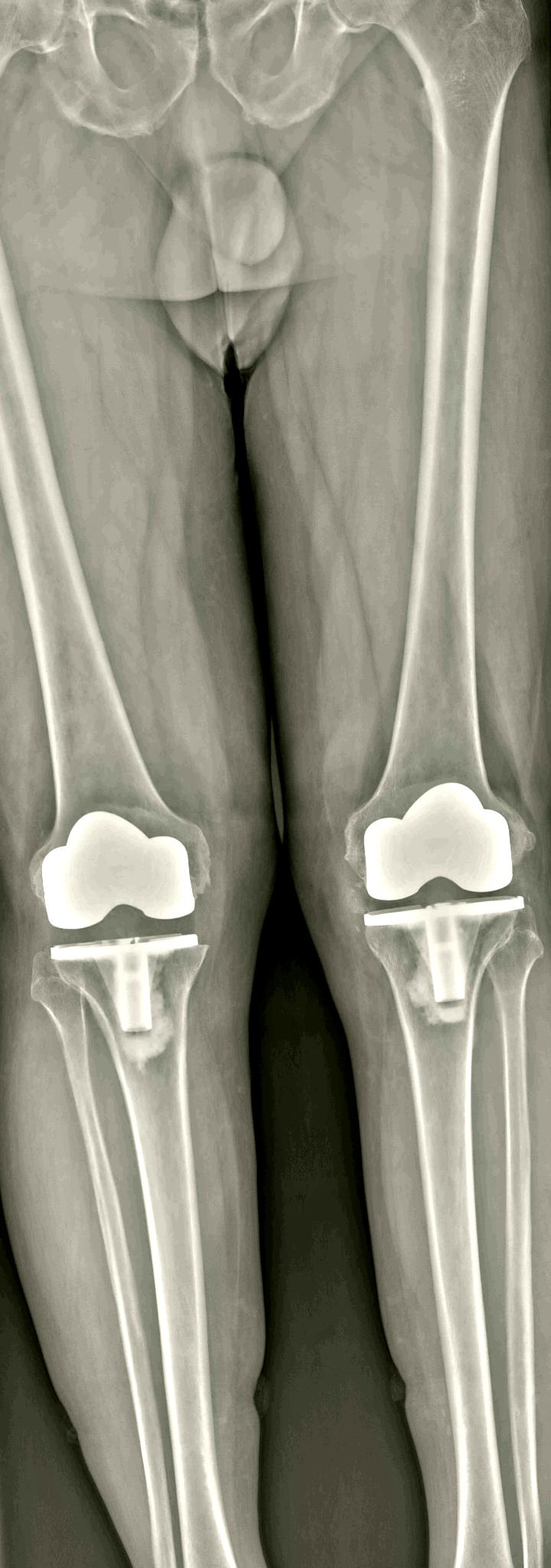Leg Fibula: (32, 960, 176, 1568), (489, 910, 543, 1568)
Leg Tibia: (52, 934, 235, 1568), (365, 897, 522, 1568)
femur: (346, 0, 530, 903), (0, 243, 208, 929)
